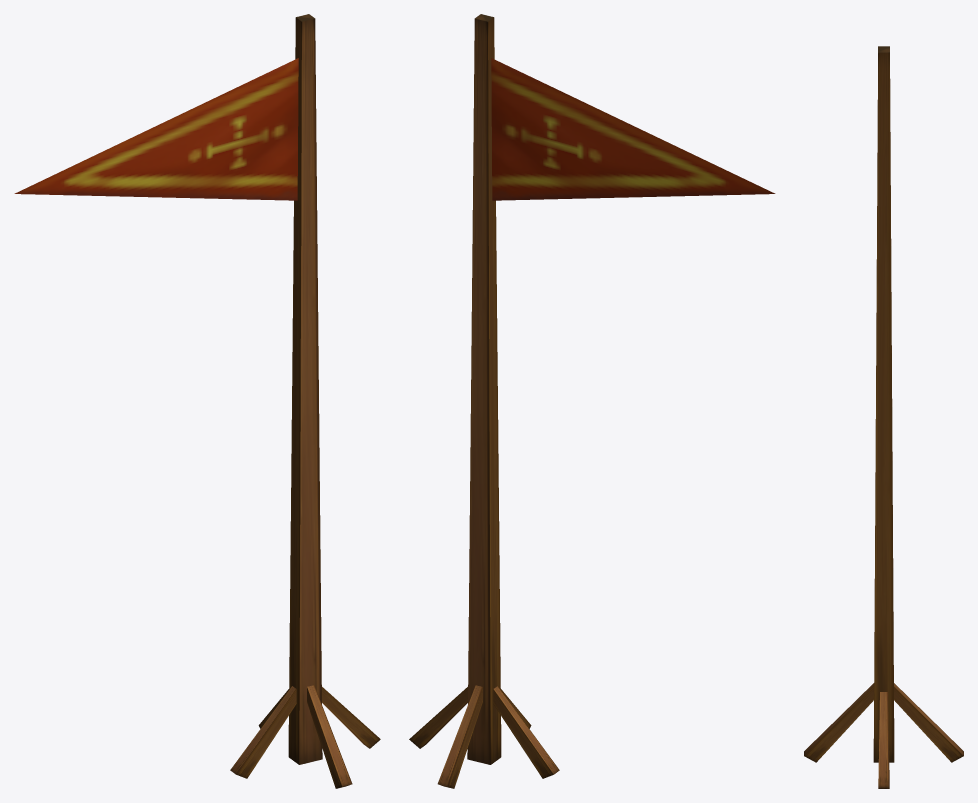
The model's file is OutdoorM_Banner_a.FBX.
3 views of the same model, side by side, from view 1: azimuth 30°, elevation 25°; view 2: azimuth 150°, elevation 25°; view 3: azimuth 270°, elevation 25° (orthographic). The views are drawn at different scales.
Visible parts, largest first — view 1: OutdoorM_Banner_a; view 2: OutdoorM_Banner_a; view 3: OutdoorM_Banner_a.
Boxes of the visible parts, x1,y1,x2,y2 form: OutdoorM_Banner_a: [14, 14, 380, 788]; OutdoorM_Banner_a: [409, 14, 775, 788]; OutdoorM_Banner_a: [804, 46, 963, 788].
Size of the model in its own units: 14.58 by 28.47 by 5.8.
